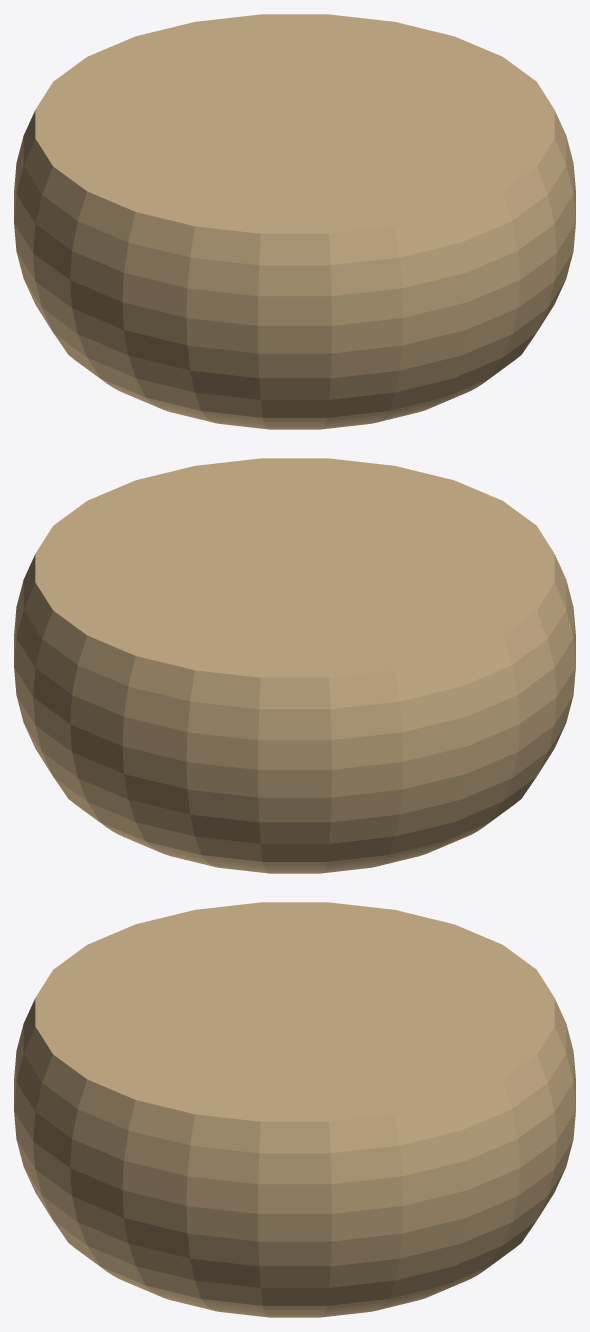
File: 13_openskp_material_112.obj
3 renders of one model, top to bottom at view 1: azimuth 30°, elevation 25°; view 2: azimuth 150°, elevation 25°; view 3: azimuth 270°, elevation 25°, orthographic.
Parts seen in each view (by area): view 1: 13_openskp_material_112; view 2: 13_openskp_material_112; view 3: 13_openskp_material_112.
Boxes of the visible parts, x1=… form: 13_openskp_material_112: x1=14, y1=14, x2=575, y2=429; 13_openskp_material_112: x1=14, y1=458, x2=575, y2=873; 13_openskp_material_112: x1=14, y1=902, x2=575, y2=1317.
Size of the model in its own units: 1.19 by 0.5531 by 1.19.
